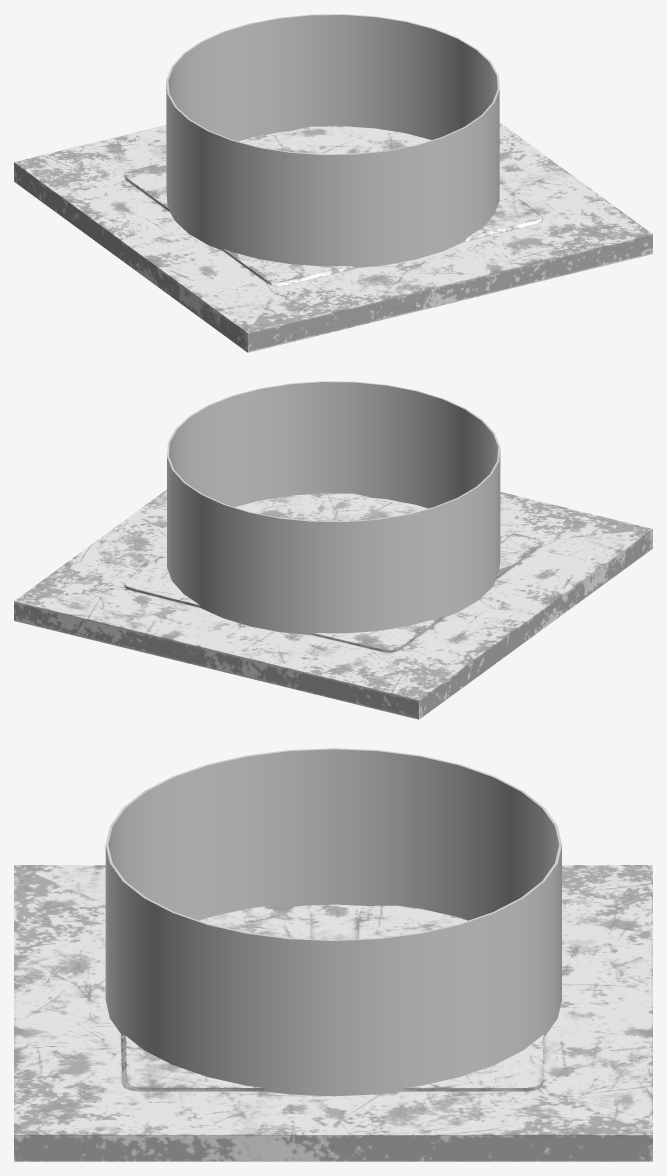
The model's file is Modular_Dungeon_Exit.fbx.
3 views of the same model, one above another, from view 1: azimuth 30°, elevation 25°; view 2: azimuth 150°, elevation 25°; view 3: azimuth 270°, elevation 25° (orthographic). The views are drawn at different scales.
Parts seen in each view (by area): view 1: Bodenplatte_Lo_Exit; view 2: Bodenplatte_Lo_Exit; view 3: Bodenplatte_Lo_Exit.
Boxes of the visible parts, x1,y1,x2,y2 form: Bodenplatte_Lo_Exit: (14, 14, 652, 352); Bodenplatte_Lo_Exit: (14, 381, 652, 719); Bodenplatte_Lo_Exit: (14, 748, 652, 1161).
Size of the model in its own units: 280 by 88 by 280.
